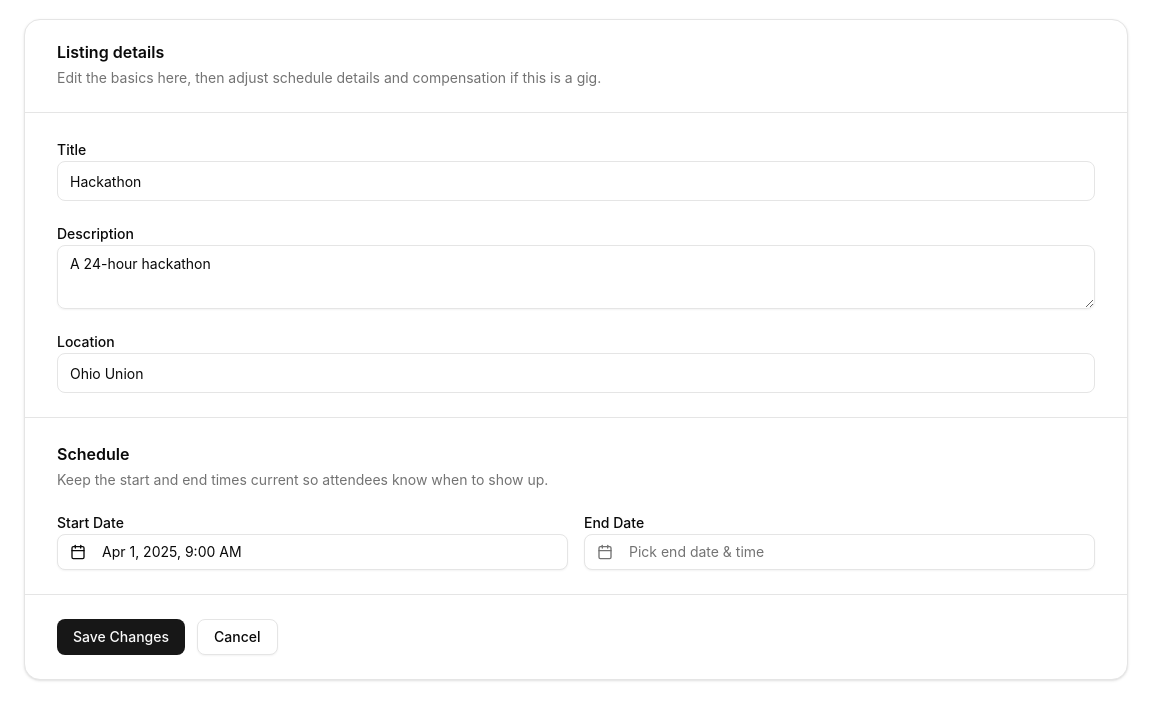
Test: [phase:1] [regression:always] EventEditForm › TC-EVT-019: shows error on failed submission
(page scrolled)
Expected: the field showing "Hackathon" is shown, [57, 161, 1095, 201]
Click the button "Save Changes" at (121, 637), box [57, 619, 185, 655]
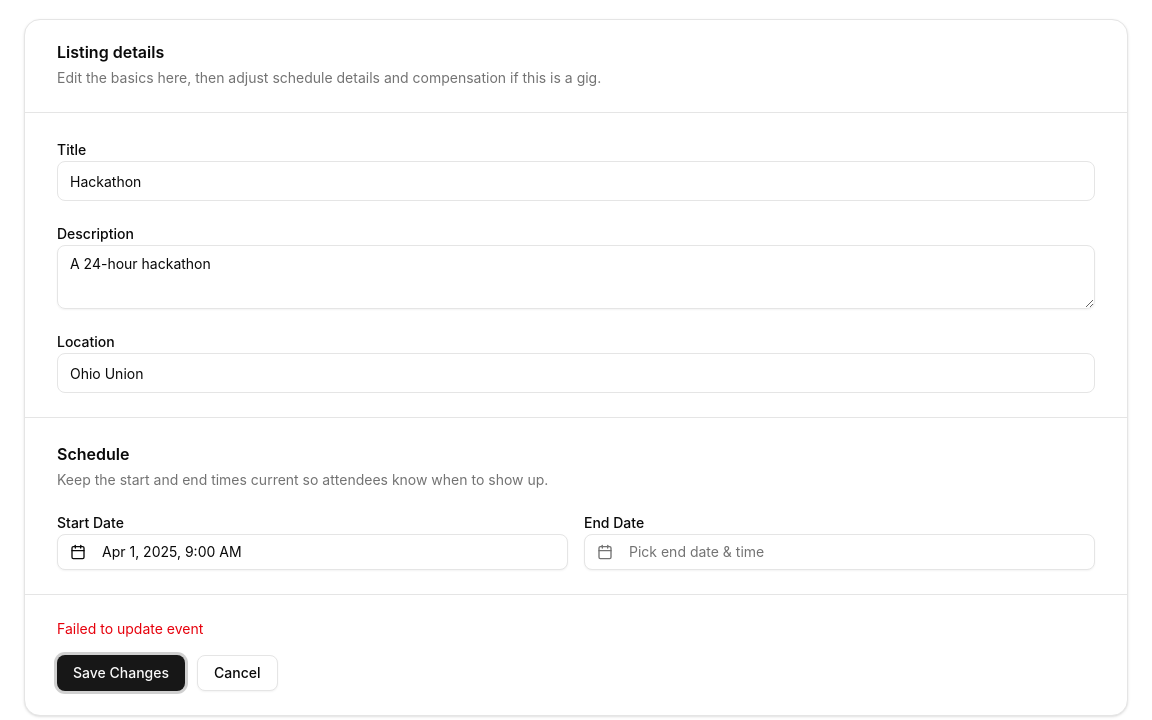
Expected: the text "Failed to update event" is shown, [57, 620, 203, 637]
